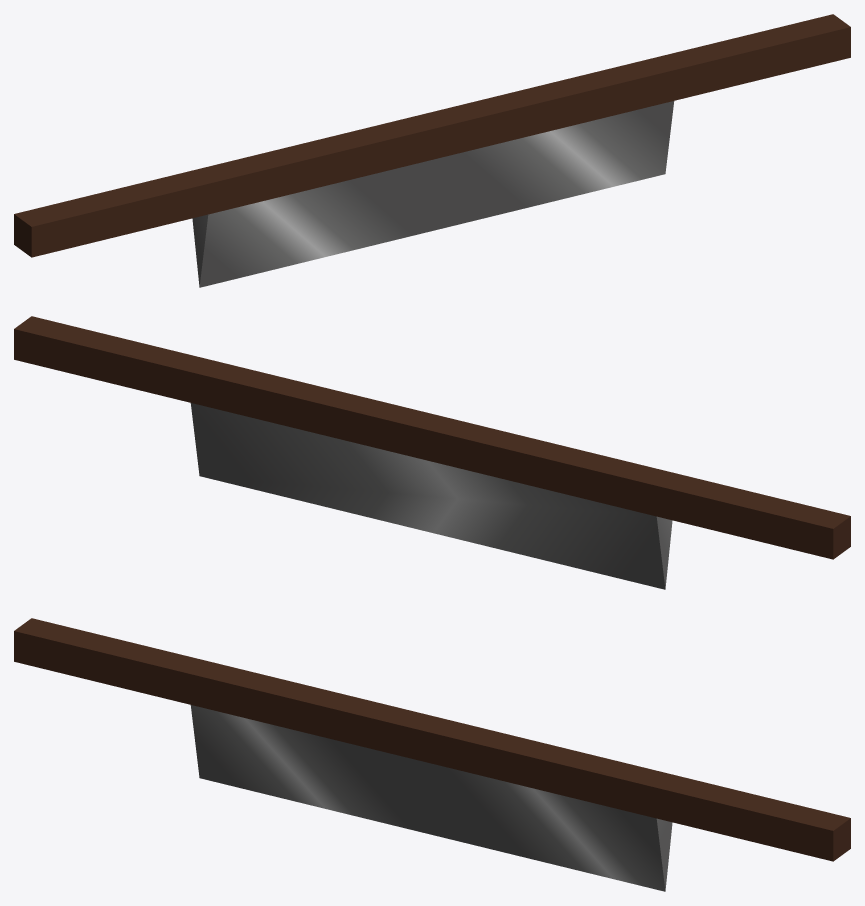
Rendered from finalMachineKnife.fbx.
The picture shows the model from 3 angles, top to bottom: view 1: azimuth 30°, elevation 25°; view 2: azimuth 150°, elevation 25°; view 3: azimuth 330°, elevation 25°; orthographic projection.
Visible parts, largest first — view 1: Tool; view 2: Tool; view 3: Tool.
Part boxes in pixels (x1=…): Tool: x1=14, y1=14, x2=850, y2=287; Tool: x1=14, y1=316, x2=850, y2=589; Tool: x1=14, y1=618, x2=850, y2=891.
Bounding box in the file's own units: 2529 × 326 × 94.28.
